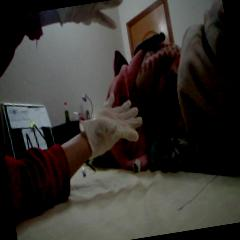gloved: (76, 89, 148, 161), (56, 0, 128, 39)
